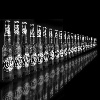beer: (11, 20, 24, 71)
